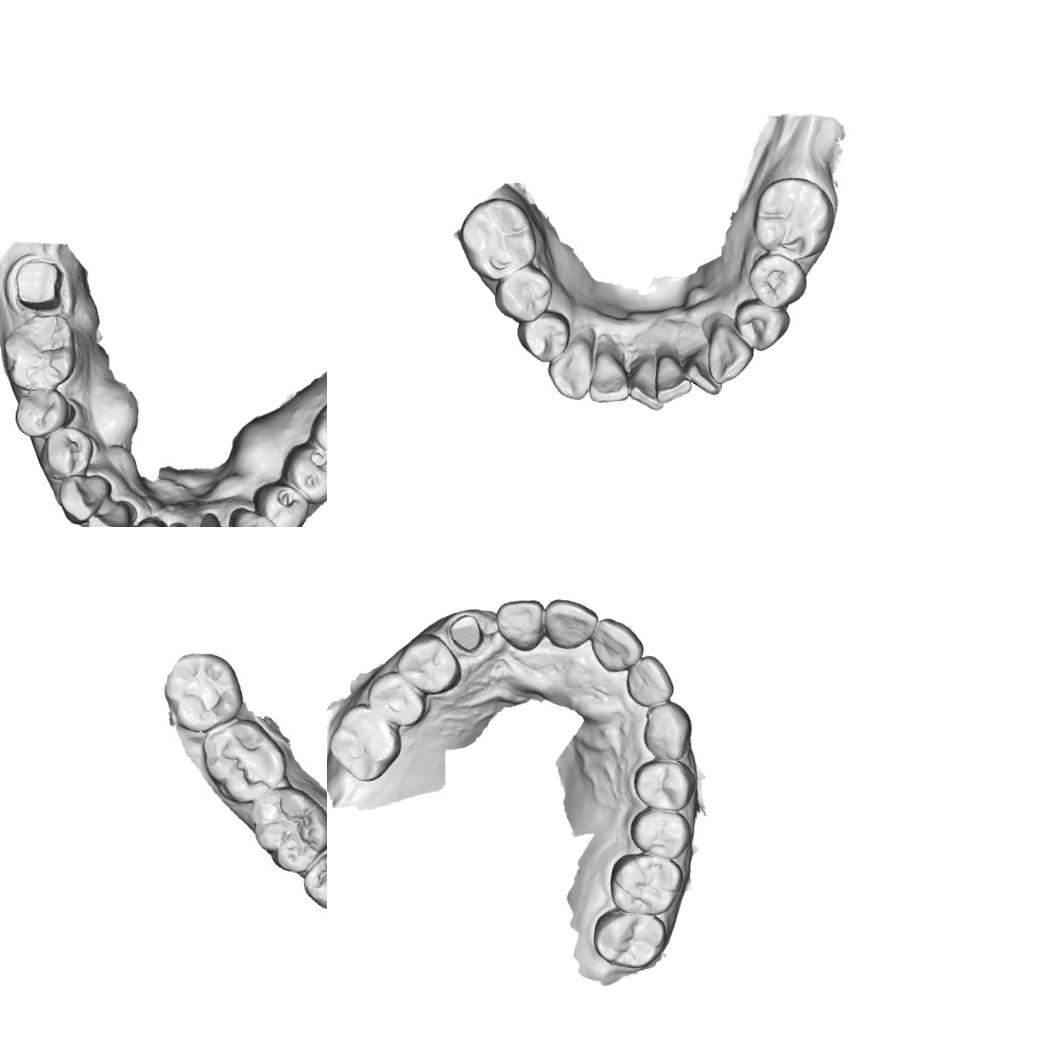canine: (542, 332, 596, 404), (701, 322, 758, 390), (50, 468, 112, 527), (640, 698, 696, 763), (223, 504, 287, 527)
crown: (6, 254, 68, 313), (446, 612, 487, 657)
incisor: (586, 615, 647, 676), (490, 594, 548, 654), (539, 596, 600, 653), (586, 344, 636, 408), (623, 652, 678, 710), (625, 347, 670, 414), (652, 344, 697, 409), (683, 343, 727, 398), (81, 495, 137, 527), (120, 512, 168, 527), (189, 512, 236, 527)
molar: (450, 191, 543, 287), (155, 644, 247, 739), (747, 171, 838, 266), (198, 711, 286, 809), (245, 780, 327, 877), (0, 306, 84, 398), (327, 699, 406, 786), (606, 849, 686, 919), (590, 904, 670, 972), (305, 389, 327, 473)
premolar: (392, 629, 467, 698), (488, 260, 556, 328), (742, 250, 812, 313), (33, 420, 98, 484), (364, 668, 430, 729), (510, 306, 574, 368), (730, 295, 794, 357), (630, 756, 698, 814), (11, 383, 75, 443), (626, 806, 694, 861), (251, 477, 311, 527), (282, 442, 327, 506), (297, 845, 327, 913)
